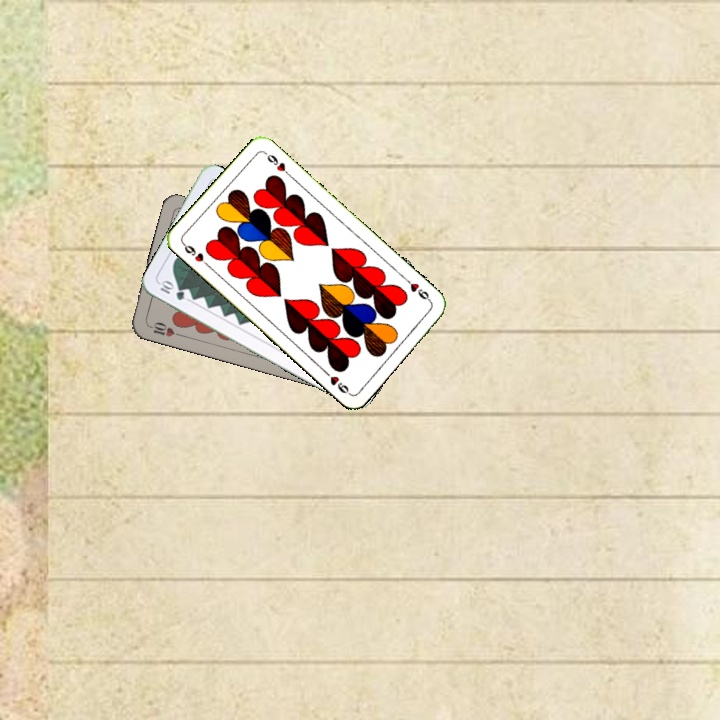G10: (156, 277, 188, 303)
H10: (144, 318, 184, 339)
H9: (179, 239, 212, 270), (401, 274, 434, 305)
